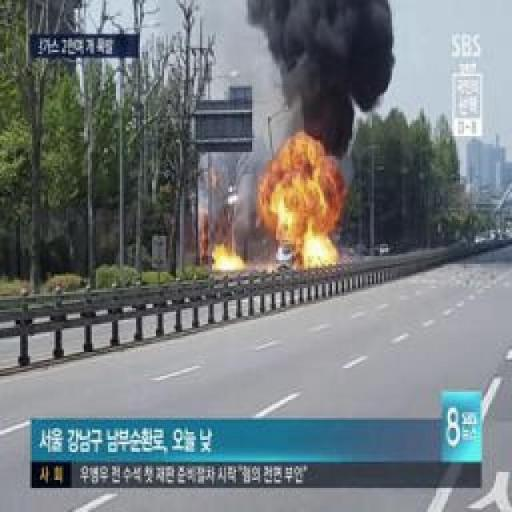smoke: (261, 172, 343, 234), (276, 140, 326, 173), (297, 238, 343, 264), (214, 246, 248, 270)
